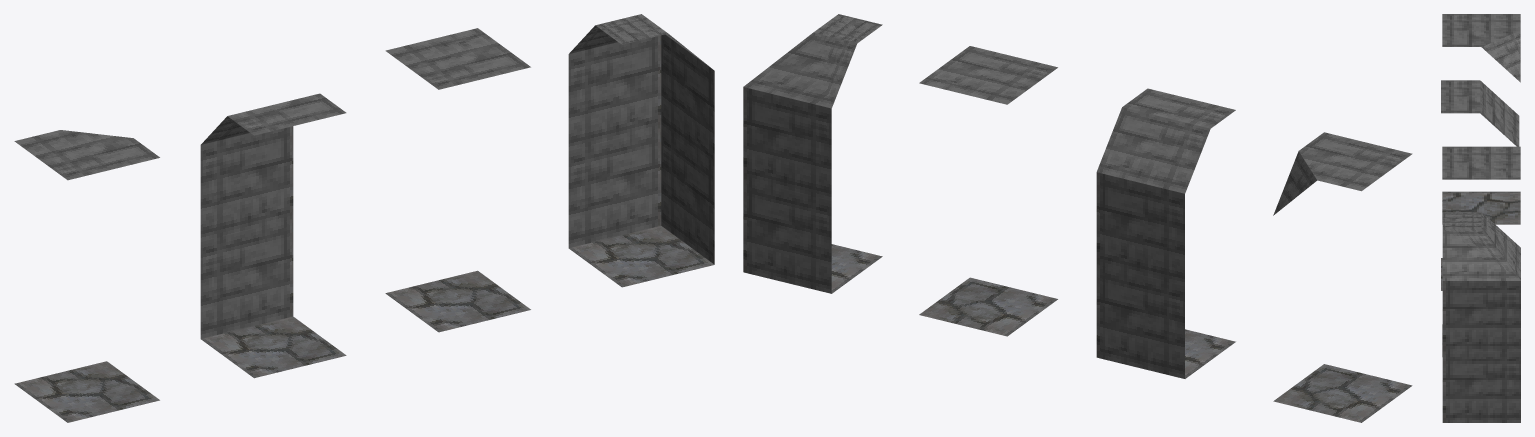
File: walls.glb
3 renders of one model, left to right at view 1: azimuth 30°, elevation 25°; view 2: azimuth 150°, elevation 25°; view 3: azimuth 270°, elevation 25°, orthographic. The views are drawn at different scales.
Parts seen in each view (by area): view 1: cornerIn-col, wall-col, floor-col, cornerOut-col; view 2: wall-col, cornerIn-col, cornerOut-col, floor-col; view 3: cornerIn-col, cornerOut-col, wall-col, floor-col.
Part boxes in pixels (left/top/right/bottom): cornerIn-col: left=568, top=14, right=714, bottom=287; wall-col: left=200, top=93, right=346, bottom=378; floor-col: left=385, top=28, right=530, bottom=332; cornerOut-col: left=14, top=130, right=159, bottom=422; wall-col: left=1096, top=88, right=1235, bottom=378; cornerIn-col: left=743, top=14, right=882, bottom=293; cornerOut-col: left=1273, top=132, right=1412, bottom=422; floor-col: left=919, top=46, right=1057, bottom=336; cornerIn-col: left=1442, top=212, right=1520, bottom=422; cornerOut-col: left=1442, top=14, right=1520, bottom=224; wall-col: left=1441, top=80, right=1519, bottom=290; floor-col: left=1442, top=146, right=1520, bottom=356.
Size of the model in its own units: 6.98 by 2.5 by 1.02.
1 material, 1 textured.
